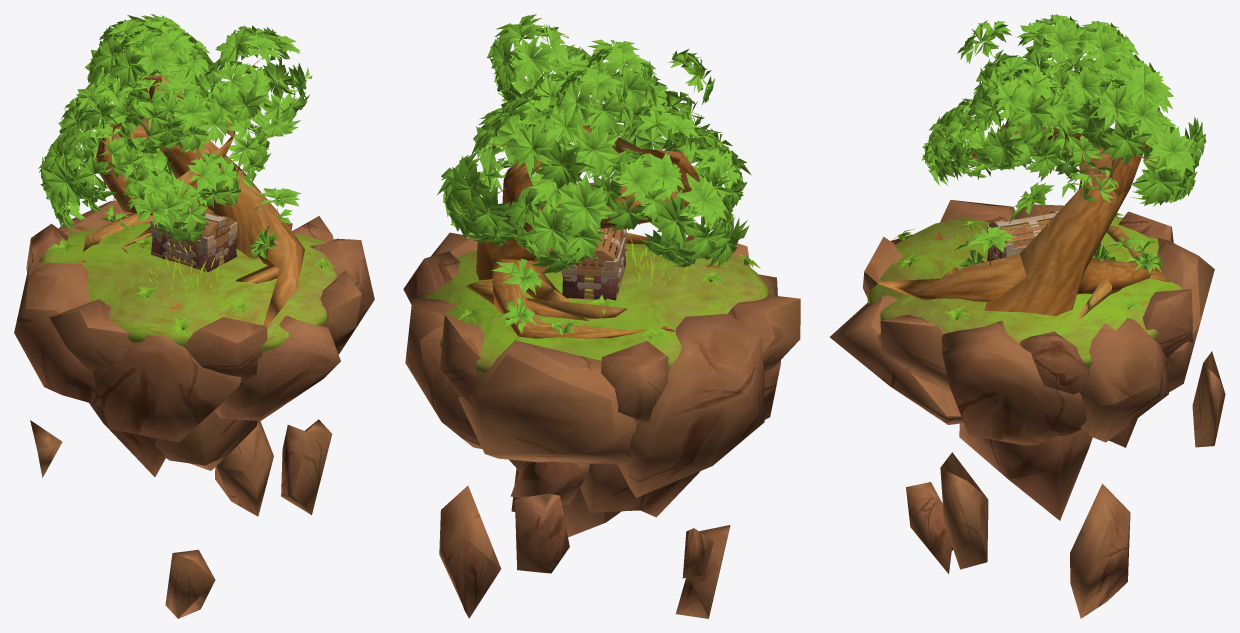
The model's file is floating-island.glb.
3 views of the same model, side by side, from view 1: azimuth 30°, elevation 25°; view 2: azimuth 150°, elevation 25°; view 3: azimuth 270°, elevation 25° (orthographic). The views are drawn at different scales.
Parts seen in each view (by area): view 1: Rock_01_LP_BigRocks_0, Plant_01_LP_Leaves_0, Grass_01_OtherNature_0, Tree_01_LP_BigTree_0, Bottom_01_LP_Bottom_0, Top_01_LP_Top_0, Cloth_01_LP_DetailsCloth_0; view 2: Rock_01_LP_BigRocks_0, Plant_01_LP_Leaves_0, Grass_01_OtherNature_0, Tree_01_LP_BigTree_0, Top_01_LP_Top_0, Bottom_01_LP_Bottom_0, Cloth_01_LP_DetailsCloth_0; view 3: Rock_01_LP_BigRocks_0, Plant_01_LP_Leaves_0, Tree_01_LP_BigTree_0, Grass_01_OtherNature_0, Top_01_LP_Top_0.
Boxes of the visible parts, left/top/right/bottom form: Rock_01_LP_BigRocks_0: left=14, top=200, right=374, bottom=618; Plant_01_LP_Leaves_0: left=38, top=14, right=335, bottom=337; Grass_01_OtherNature_0: left=39, top=47, right=337, bottom=352; Tree_01_LP_BigTree_0: left=77, top=75, right=304, bottom=326; Bottom_01_LP_Bottom_0: left=150, top=216, right=237, bottom=271; Top_01_LP_Top_0: left=150, top=206, right=237, bottom=247; Cloth_01_LP_DetailsCloth_0: left=151, top=231, right=236, bottom=272; Rock_01_LP_BigRocks_0: left=403, top=232, right=800, bottom=618; Plant_01_LP_Leaves_0: left=437, top=14, right=760, bottom=345; Grass_01_OtherNature_0: left=423, top=74, right=769, bottom=375; Tree_01_LP_BigTree_0: left=465, top=125, right=723, bottom=340; Top_01_LP_Top_0: left=568, top=227, right=626, bottom=271; Bottom_01_LP_Bottom_0: left=561, top=239, right=626, bottom=300; Cloth_01_LP_DetailsCloth_0: left=562, top=242, right=625, bottom=300; Rock_01_LP_BigRocks_0: left=830, top=200, right=1225, bottom=618; Plant_01_LP_Leaves_0: left=893, top=14, right=1206, bottom=323; Tree_01_LP_BigTree_0: left=877, top=84, right=1170, bottom=320; Grass_01_OtherNature_0: left=867, top=47, right=1182, bottom=368; Top_01_LP_Top_0: left=987, top=209, right=1059, bottom=254.
Bounding box in the file's own units: 4.43 × 7.07 × 4.55.
Materials: 7 (7 with a texture image).
